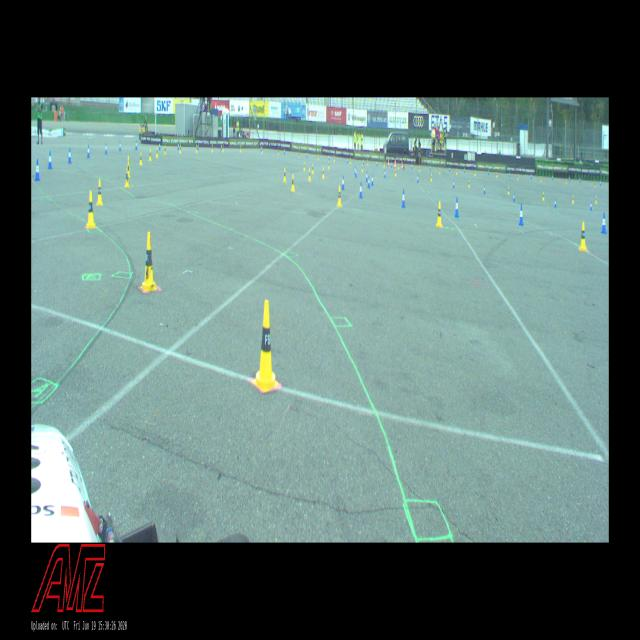blue_cone: (34, 159, 40, 181), (518, 205, 524, 226), (601, 213, 607, 234), (48, 151, 53, 169), (455, 198, 459, 218), (402, 189, 406, 208), (359, 182, 363, 198), (68, 148, 72, 164), (87, 145, 90, 158), (105, 142, 108, 154), (371, 174, 374, 186), (342, 176, 344, 190), (368, 177, 370, 188), (366, 171, 368, 182), (554, 198, 556, 208), (119, 141, 121, 151), (136, 141, 138, 150), (452, 180, 454, 189), (590, 201, 592, 210), (355, 168, 357, 177), (159, 141, 161, 150), (513, 193, 515, 201), (484, 186, 486, 194), (417, 175, 419, 183), (552, 175, 554, 180), (178, 142, 179, 150), (385, 170, 386, 178), (488, 168, 489, 176), (509, 171, 510, 178), (449, 165, 450, 172), (531, 173, 532, 179), (569, 176, 570, 182), (600, 181, 601, 186), (580, 177, 580, 183), (412, 163, 412, 169)
yellow_cone: (253, 300, 279, 392), (140, 232, 158, 292), (86, 192, 96, 228), (579, 222, 587, 250), (97, 180, 103, 205), (437, 201, 442, 228), (124, 170, 130, 188), (337, 186, 342, 207), (126, 156, 130, 176), (291, 174, 295, 190), (139, 152, 143, 165), (148, 149, 152, 161), (308, 168, 311, 182), (284, 168, 286, 182), (156, 147, 158, 158), (180, 144, 182, 154), (322, 168, 324, 178), (312, 164, 314, 174), (164, 145, 166, 155), (595, 195, 597, 204), (572, 195, 574, 204), (468, 179, 470, 188), (508, 186, 510, 195), (542, 192, 544, 200), (196, 145, 198, 153), (240, 144, 242, 152), (430, 174, 432, 181), (222, 145, 224, 152), (474, 170, 476, 176), (540, 177, 542, 182), (496, 172, 498, 177), (594, 182, 596, 187), (304, 162, 305, 171), (328, 161, 329, 169), (212, 144, 213, 152), (362, 164, 363, 172), (395, 169, 396, 176), (367, 159, 368, 166), (456, 169, 457, 175), (419, 166, 420, 172), (439, 168, 440, 174), (350, 158, 351, 164), (318, 154, 319, 160), (278, 149, 279, 155), (334, 156, 335, 161), (566, 178, 566, 184), (518, 175, 518, 180), (384, 162, 384, 166)
